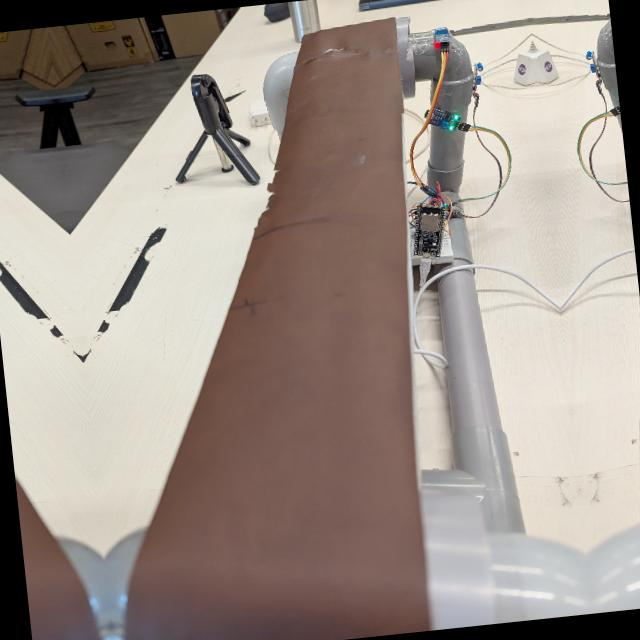edge_damage: (242, 158, 291, 237)
joint_damage: (316, 40, 353, 67)
